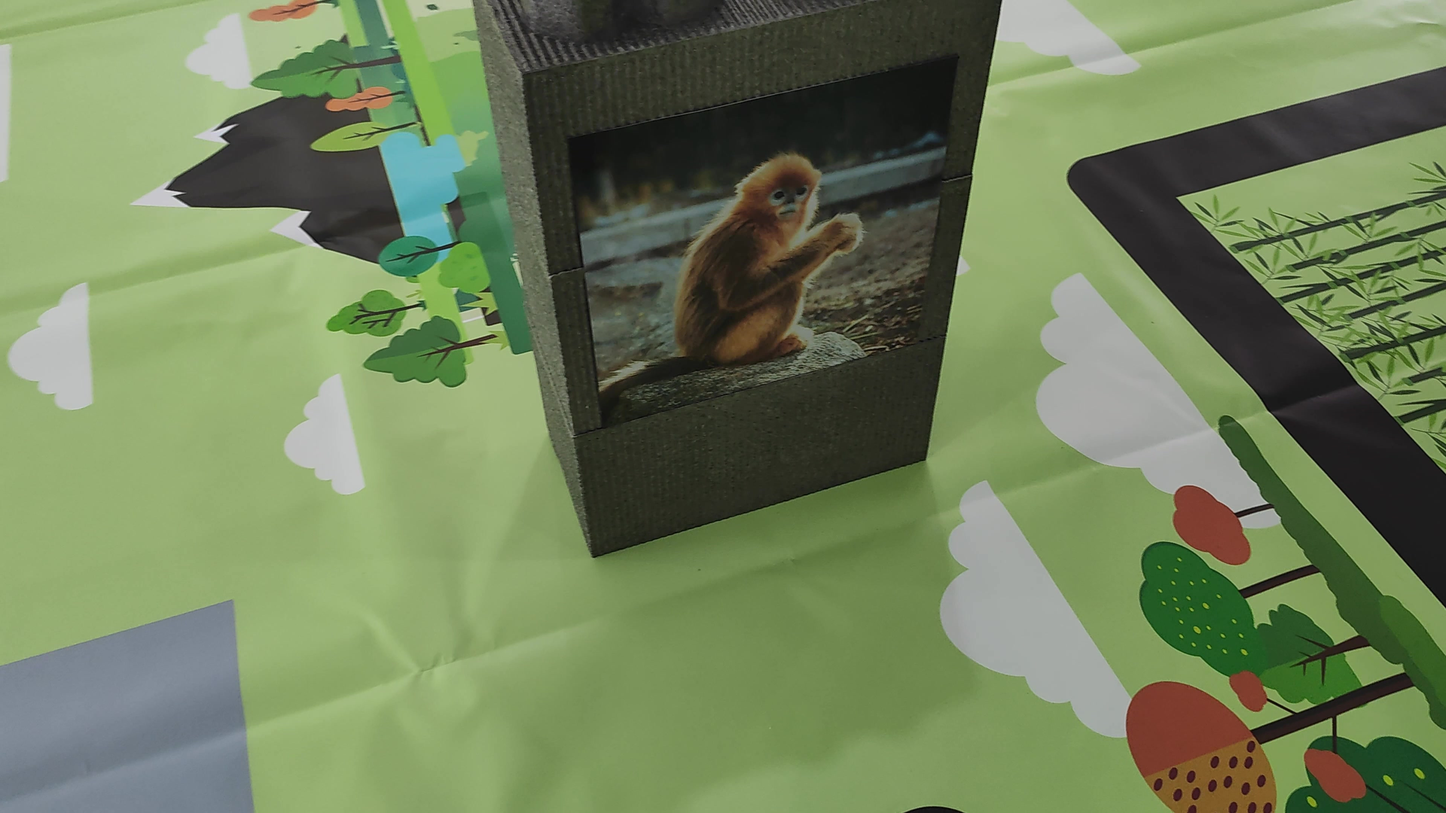monkey: (629, 124, 890, 376)
